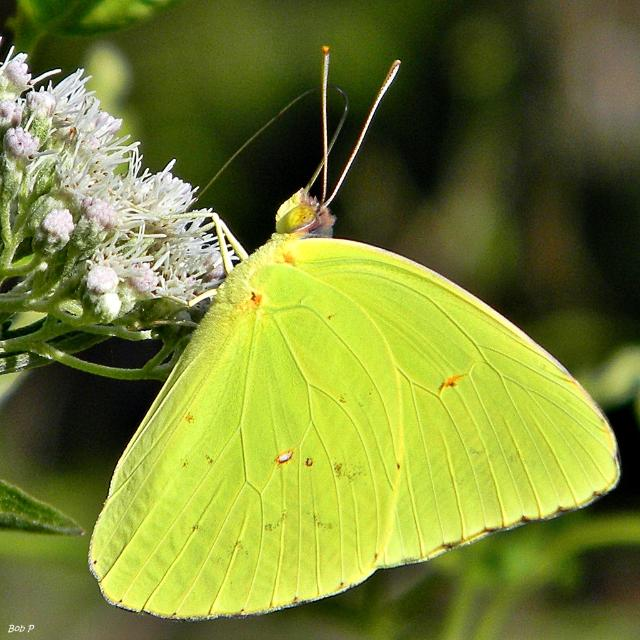Flower: (1, 43, 248, 325), (82, 262, 115, 284)
